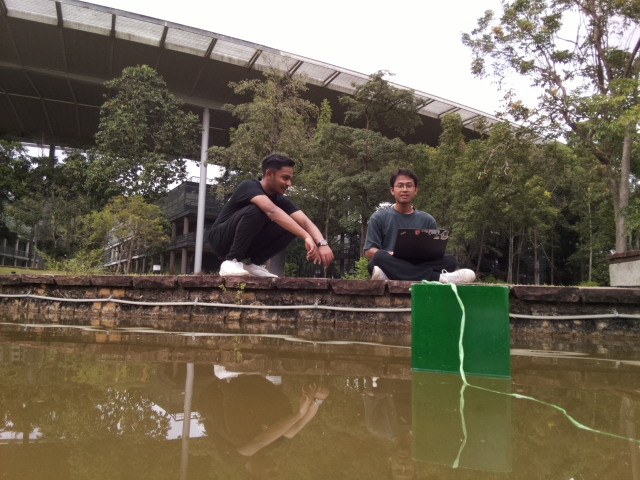obstacle: (174, 335, 204, 384)
